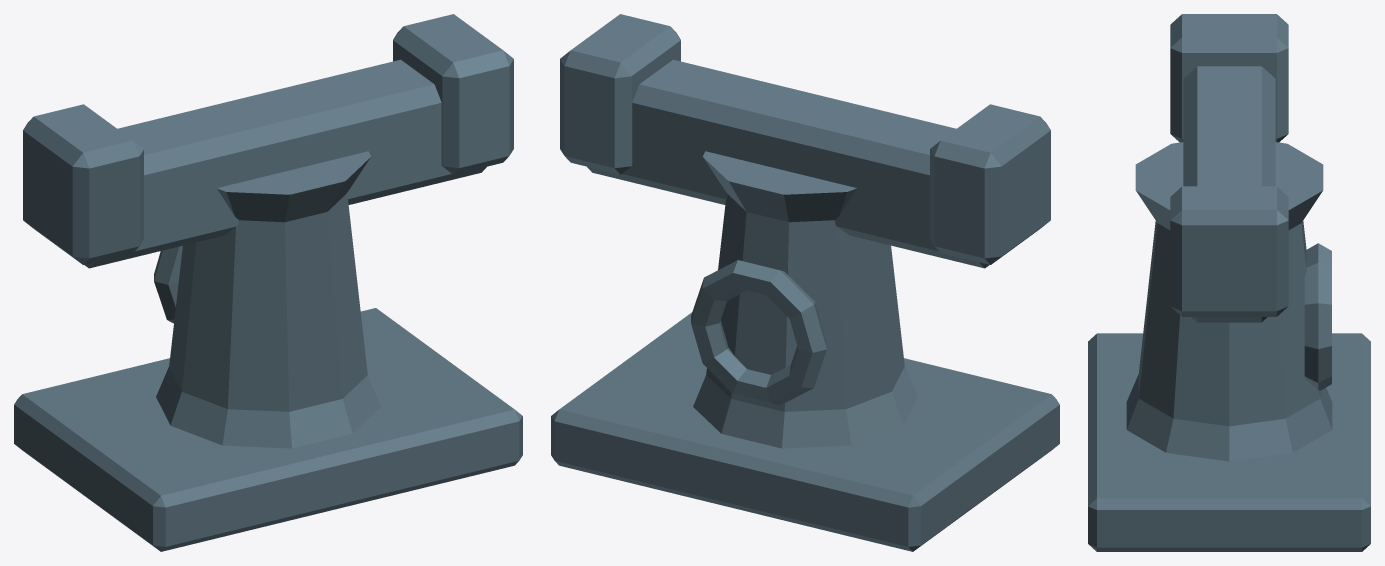
File: EM_MooringBollard.fbx
3 views of the same model, side by side, from view 1: azimuth 30°, elevation 25°; view 2: azimuth 150°, elevation 25°; view 3: azimuth 270°, elevation 25° (orthographic). The views are drawn at different scales.
Visible parts, largest first — view 1: EM_MooringBollard; view 2: EM_MooringBollard; view 3: EM_MooringBollard.
Boxes of the visible parts, x1=… form: EM_MooringBollard: x1=14, y1=14, x2=522, y2=551; EM_MooringBollard: x1=551, y1=14, x2=1059, y2=551; EM_MooringBollard: x1=1088, y1=14, x2=1370, y2=551.
Size of the model in its own units: 0.74 by 0.6 by 0.43.
